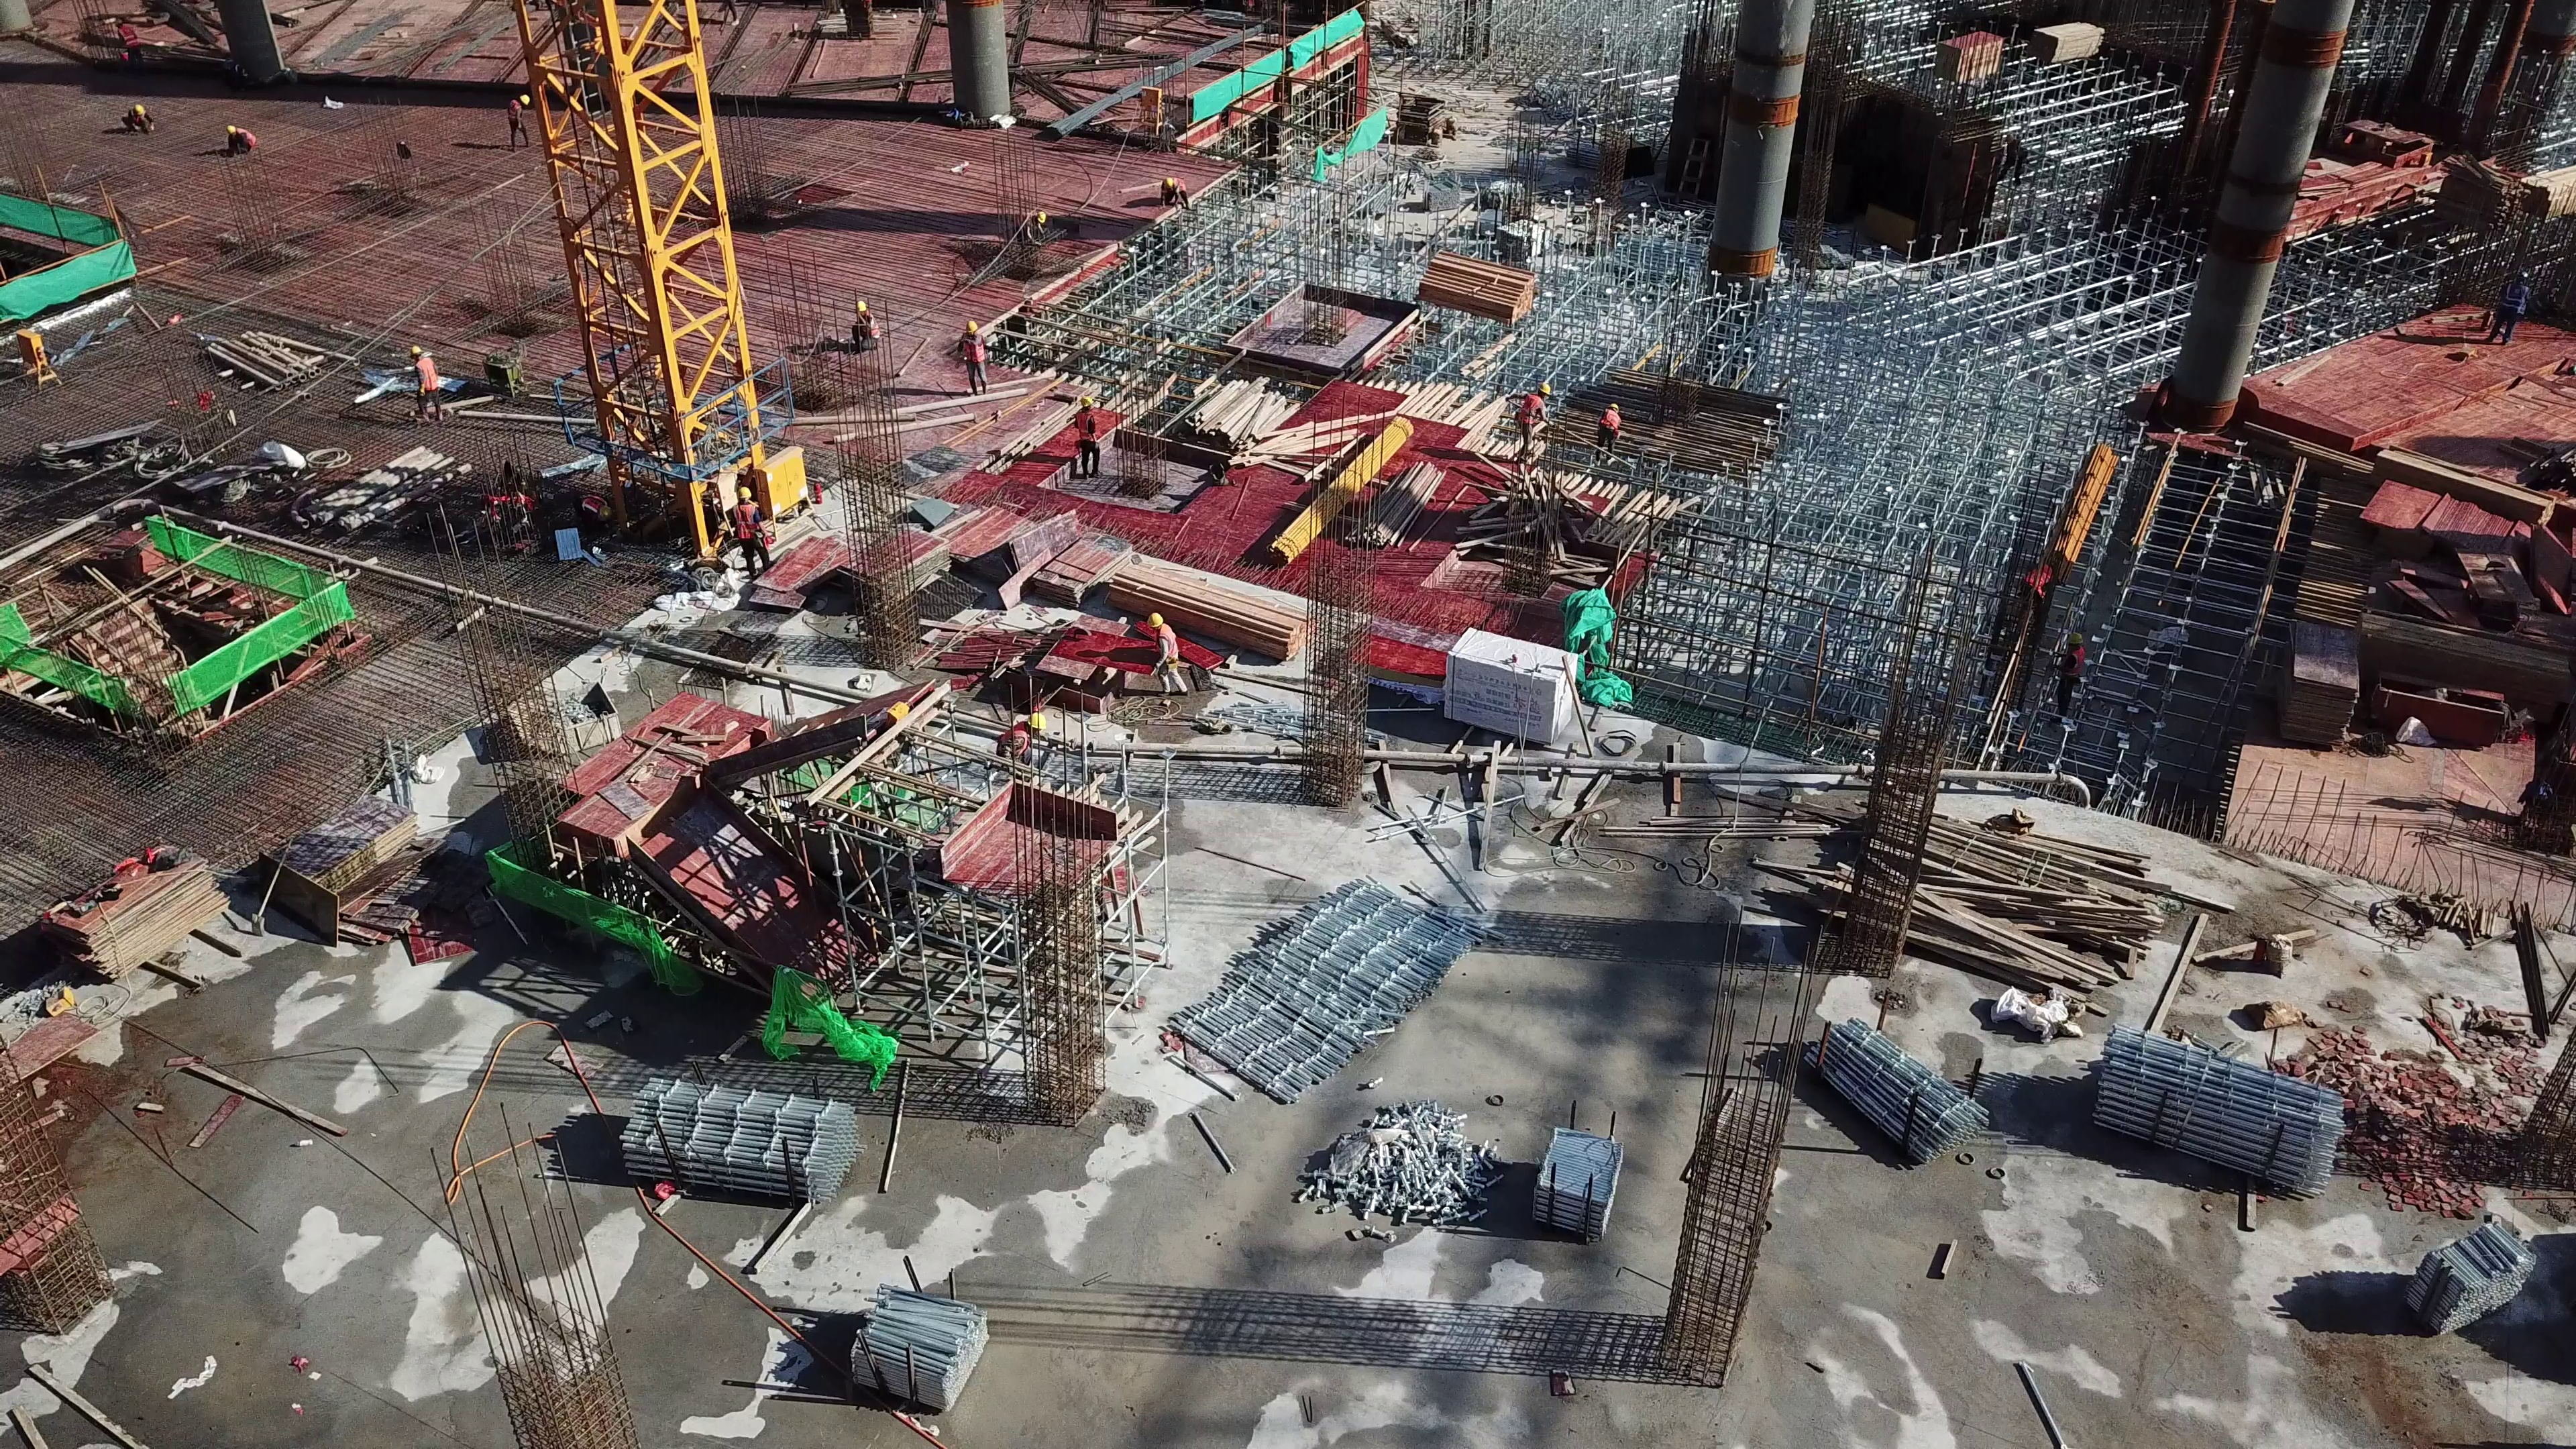board: (44, 853, 251, 993), (268, 794, 425, 952), (2272, 602, 2371, 747)
person: (1132, 599, 1184, 710), (732, 488, 782, 584), (402, 336, 452, 427), (1061, 394, 1106, 476), (1511, 386, 1557, 462), (957, 325, 998, 400)
scaffold: (1172, 871, 1455, 1097), (1271, 1106, 1654, 1270), (2091, 1013, 2342, 1197), (598, 1065, 857, 1220), (1817, 993, 1983, 1177), (846, 1287, 977, 1409)
wood: (1796, 783, 2155, 987), (1096, 543, 1303, 684), (1169, 386, 1353, 508)
